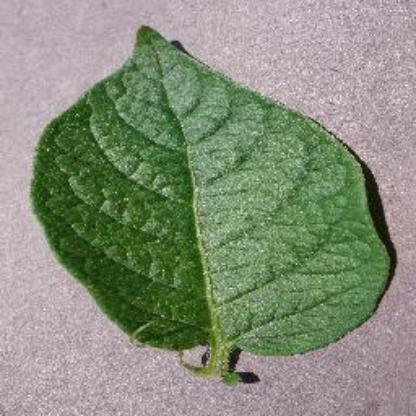Healthy-plant: (20, 13, 400, 387)
